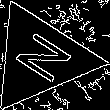N_SE: (5, 27, 76, 89)
